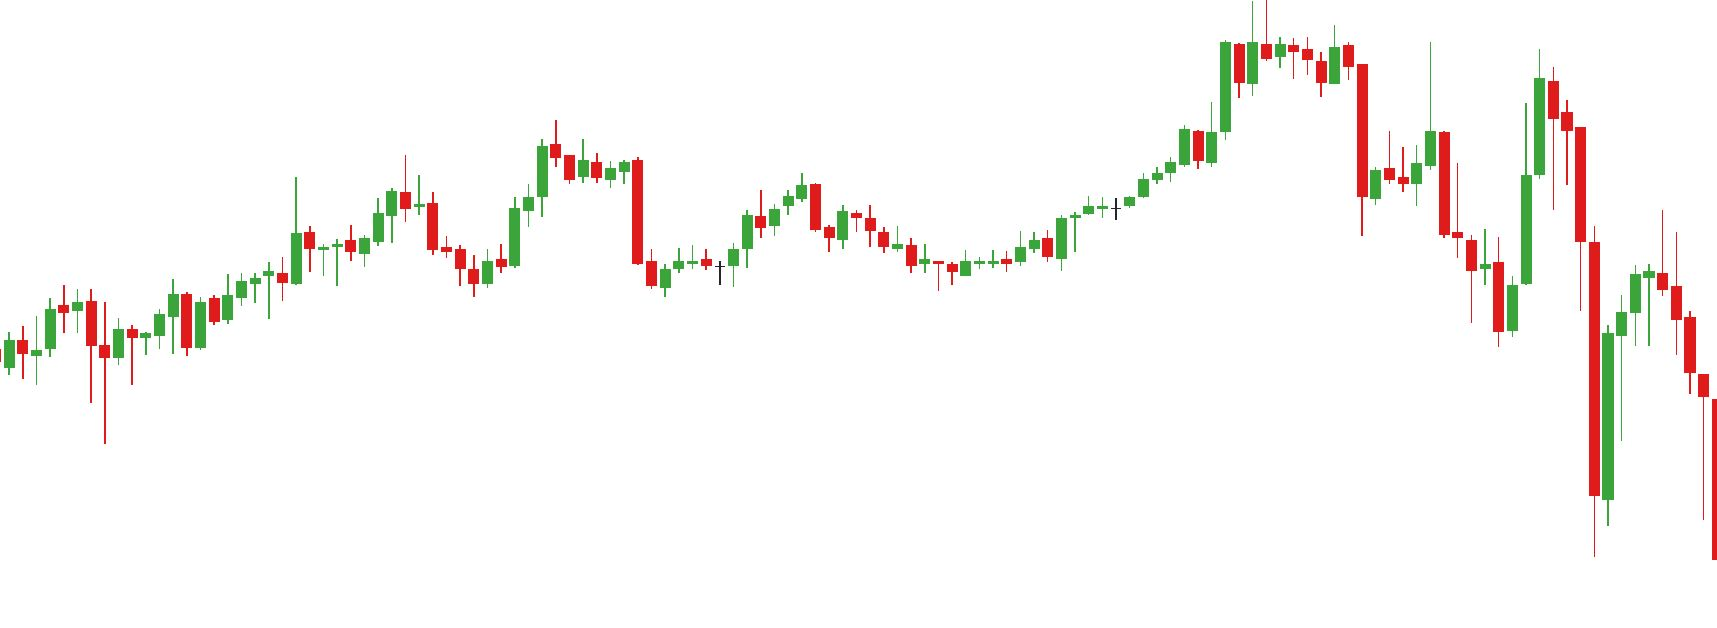buy: (16, 319, 124, 447), (330, 220, 497, 299)
